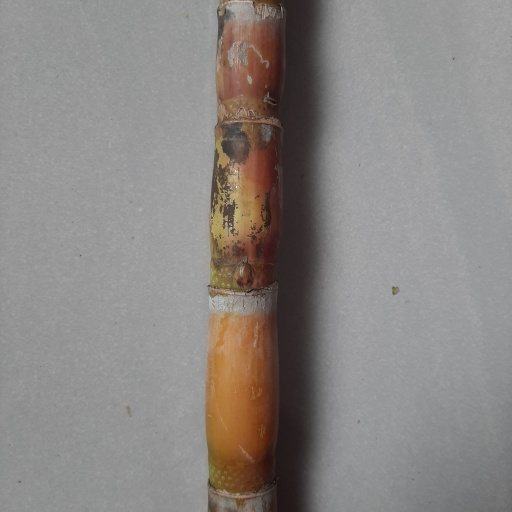Bud: (232, 263, 257, 294)
